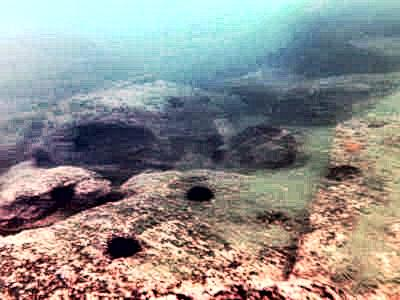urchin: (106, 234, 141, 258), (184, 183, 215, 201), (48, 182, 73, 202)
